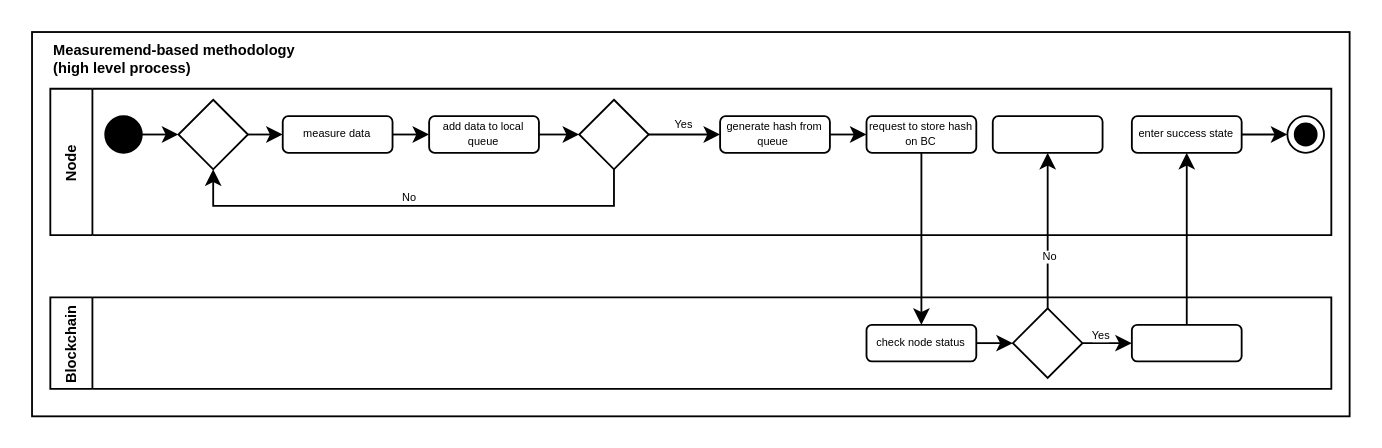
Some shapes in this 1382 by 448 pixel diagram are drawn without their labels. The shapes that lost their labels are listed below. From the top down, each one's centre as x and y in pixels, then its label:
At (613,133): "queue length ≥ n?".
At (1047,133): "enter error state".
At (1046,342): "node valid?".
At (1186,342): "store hash".
